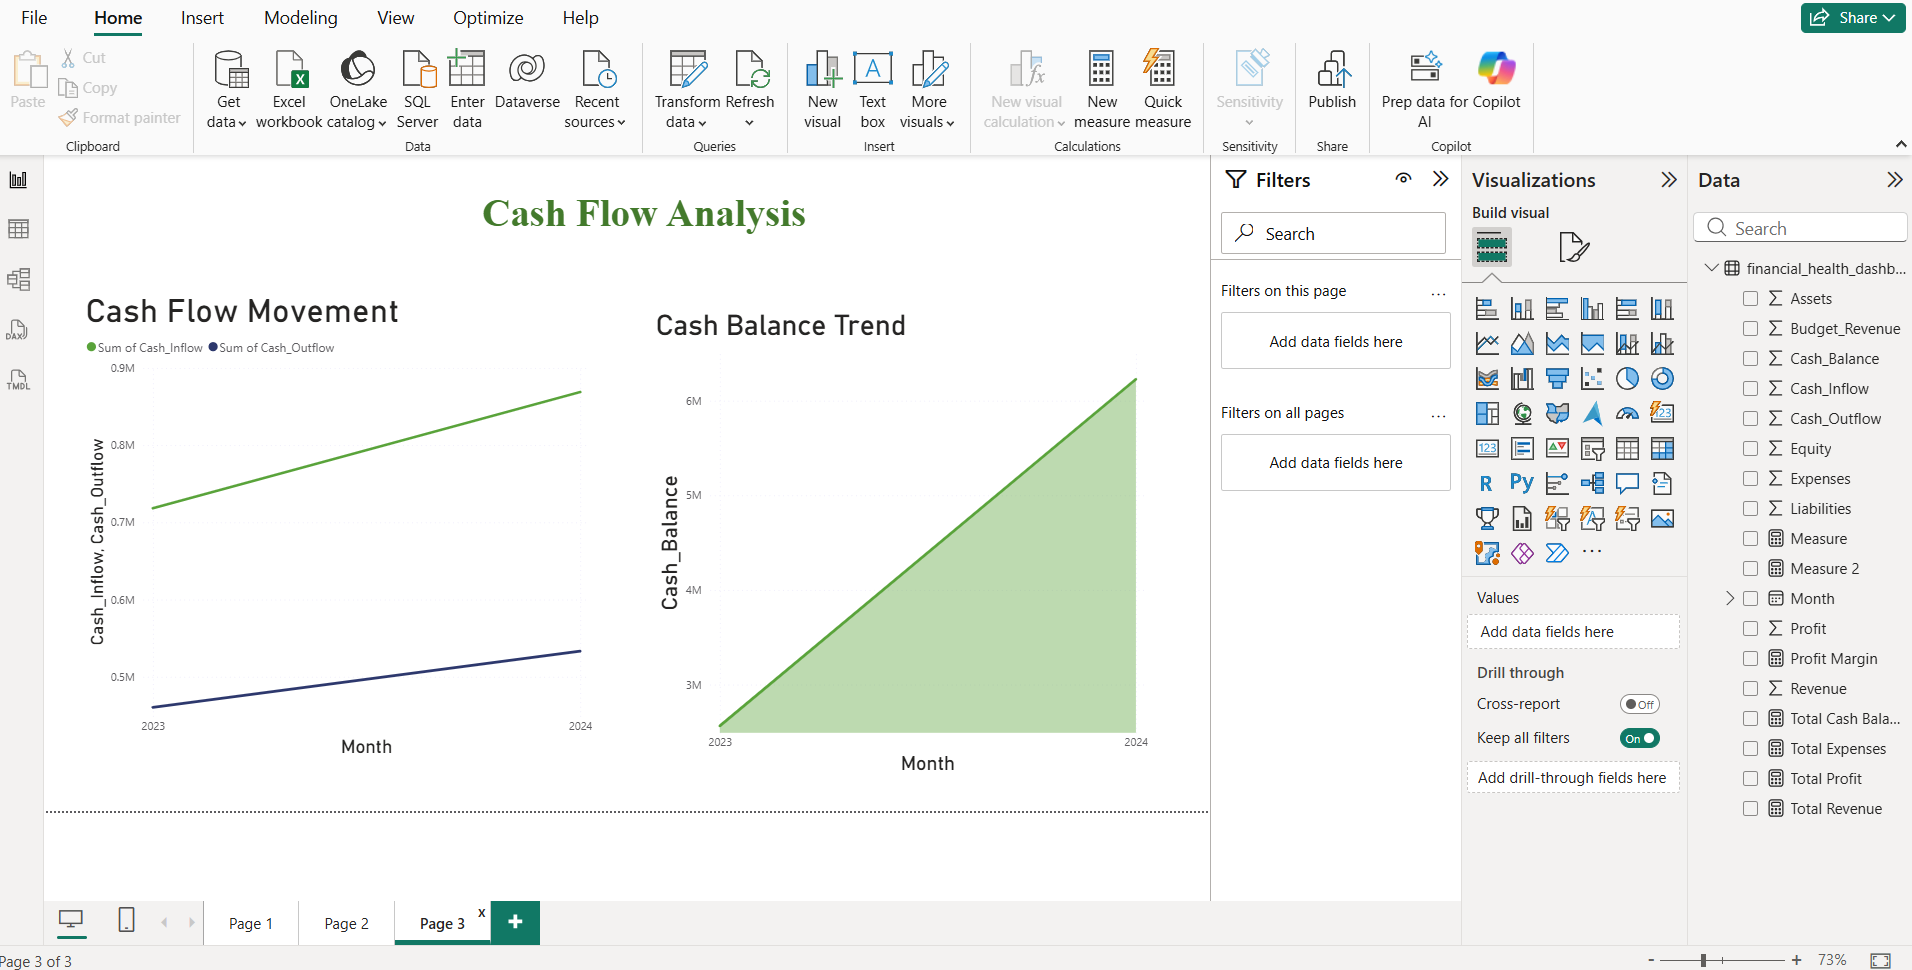

What the dashboard file says about the page in this screenshot:
{"tool":"powerbi","page":{"name":"Page 3","canvas":[1280,720],"ordinal":2},"visuals":[{"type":"lineChart","title":"Cash Flow Movement","fields":{"Category":["financial_health_dashboard_dataset.Month.Variation.Date Hierarchy.Year","financial_health_dashboard_dataset.Month.Variation.Date Hierarchy.Quarter","financial_health_dashboard_dataset.Month.Variation.Date Hierarchy.Month","financial_health_dashboard_dataset.Month.Variation.Date Hierarchy.Day"],"Y":["Sum(financial_health_dashboard_dataset.Cash_Inflow)","Sum(financial_health_dashboard_dataset.Cash_Outflow)"]},"box":[41.4,150,565.7,515.7],"z":0},{"type":"areaChart","title":"Cash Balance Trend","fields":{"Category":["financial_health_dashboard_dataset.Month.Variation.Date Hierarchy.Year","financial_health_dashboard_dataset.Month.Variation.Date Hierarchy.Quarter","financial_health_dashboard_dataset.Month.Variation.Date Hierarchy.Month","financial_health_dashboard_dataset.Month.Variation.Date Hierarchy.Day"],"Y":["Sum(financial_health_dashboard_dataset.Cash_Balance)"]},"box":[667.1,168.6,550,515.7],"z":1000},{"type":"textbox","box":[100,34.3,1117.1,97.1],"z":1001}]}

Visuals, with their boxes on the page's 1280x720 design canvas (x1, y1, x2, y2). These are canvas units, not pixel positions in the 1912x970 screenshot, which may show the page scaled, cropped or inside an application window:
"Cash Flow Movement" lineChart: [41, 150, 607, 666]
"Cash Balance Trend" areaChart: [667, 169, 1217, 684]
textbox: [100, 34, 1217, 131]
